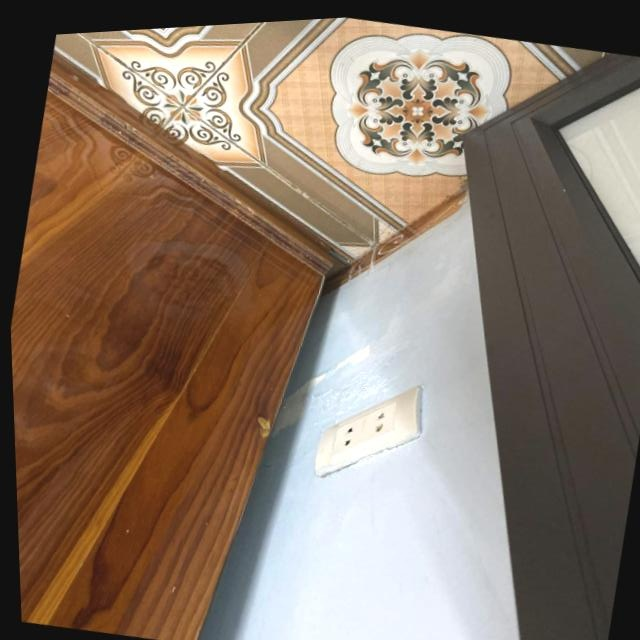outlet: (309, 367, 433, 496)
